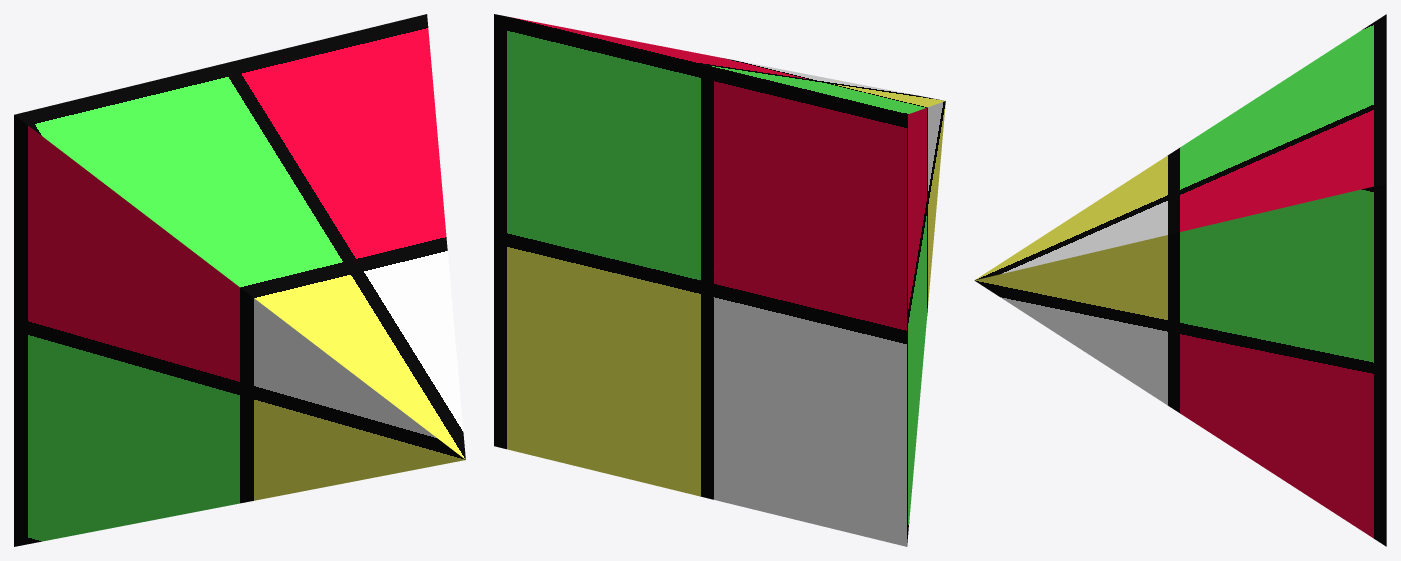
3 views of the same model, side by side, from view 1: azimuth 30°, elevation 25°; view 2: azimuth 150°, elevation 25°; view 3: azimuth 270°, elevation 25° (orthographic). The views are drawn at different scales.
Parts seen in each view (by area): view 1: Pyramid001; view 2: Pyramid001; view 3: Pyramid001.
Part boxes in pixels (left/top/right/bottom): Pyramid001: left=14, top=14, right=465, bottom=546; Pyramid001: left=494, top=14, right=945, bottom=546; Pyramid001: left=974, top=14, right=1386, bottom=546.
Bounding box in the file's own units: 19.39 × 19.39 × 19.94.
